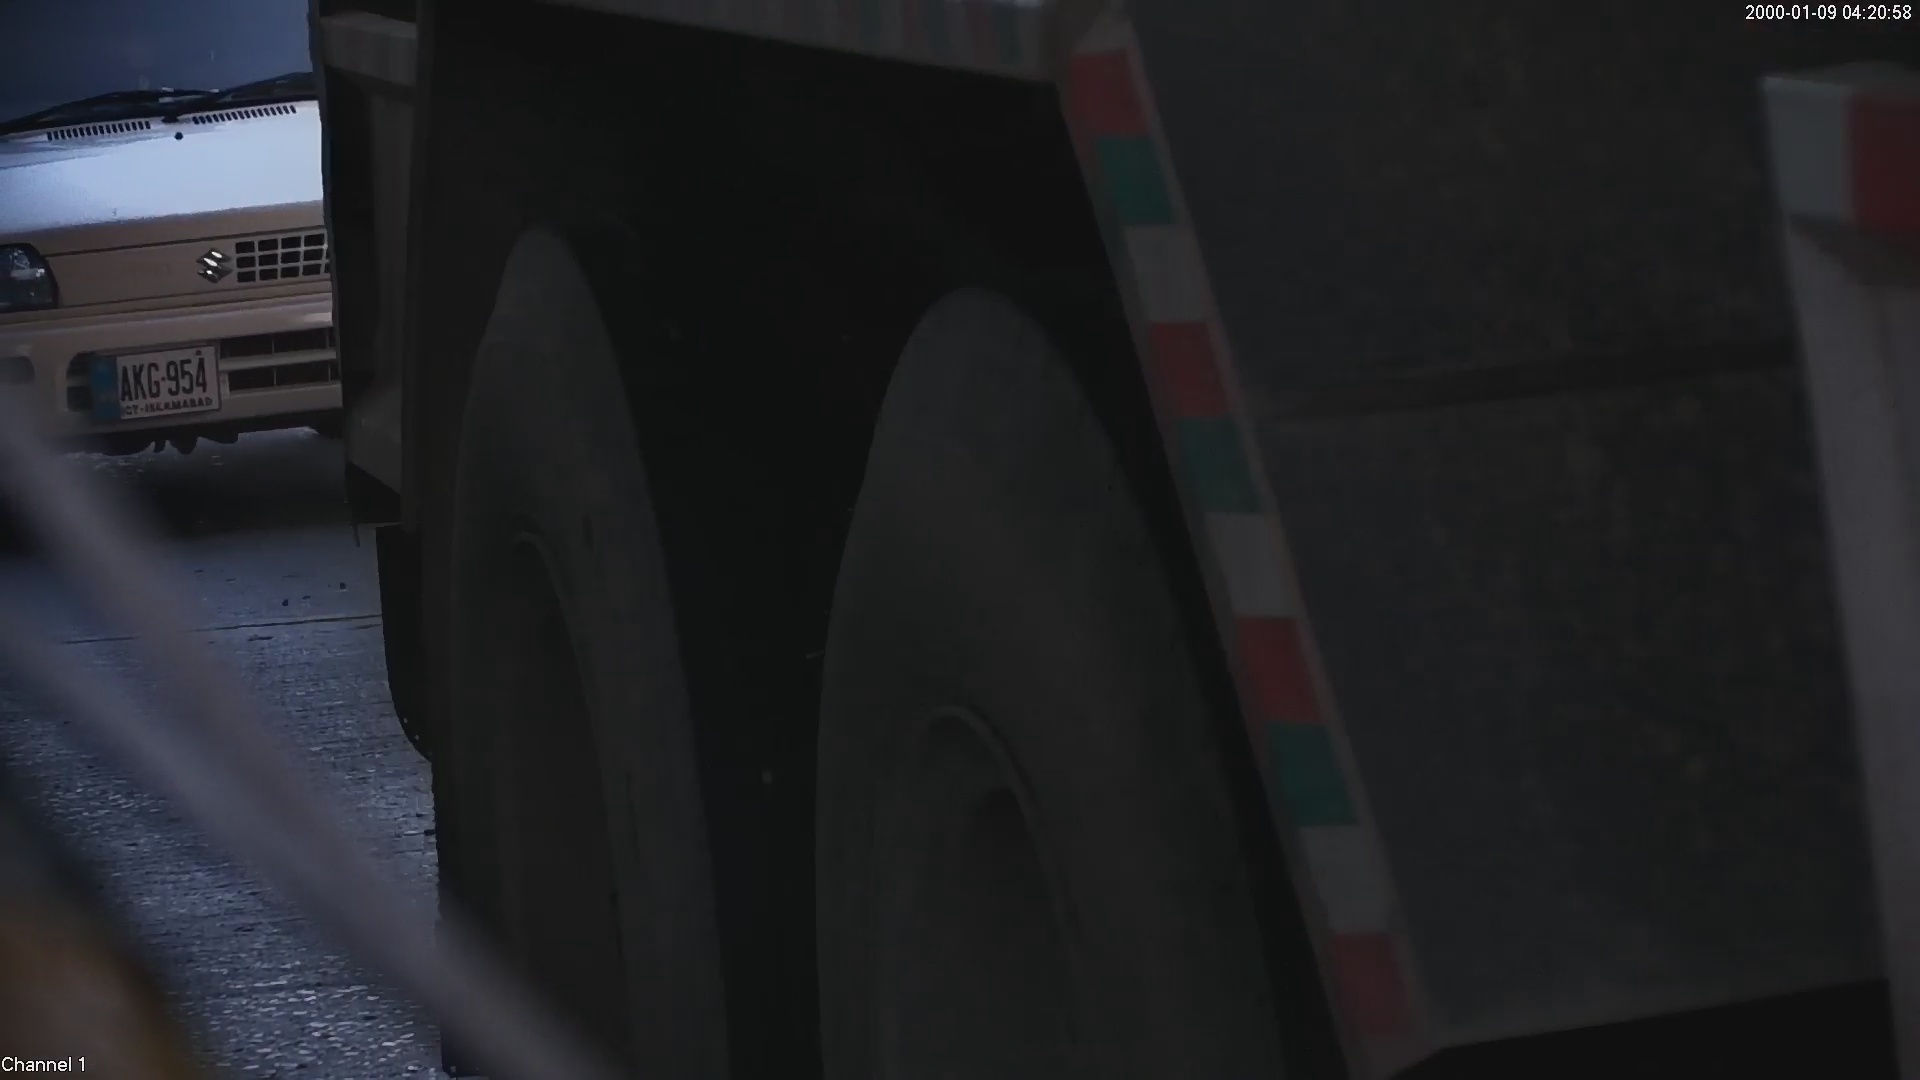Number_Plate: (80, 331, 230, 425)
